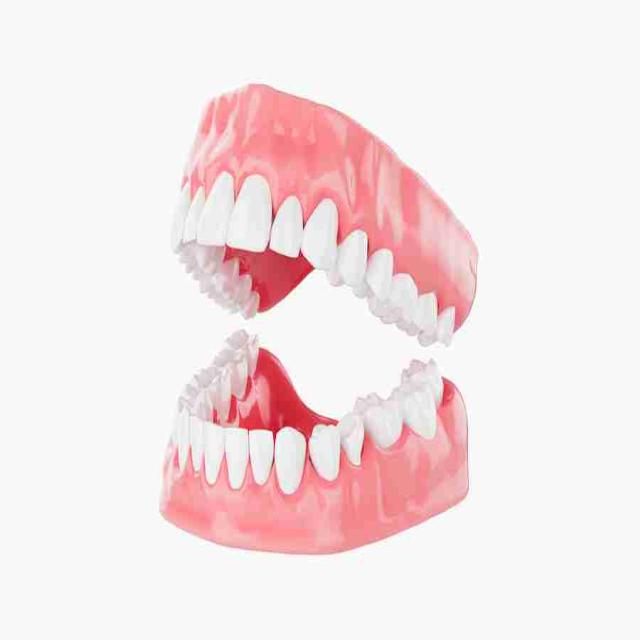tooth: (233, 168, 277, 259), (308, 200, 337, 278), (205, 168, 233, 248), (405, 346, 440, 408), (273, 432, 307, 486), (219, 424, 248, 481), (355, 388, 390, 435), (392, 398, 432, 436), (249, 424, 273, 486), (338, 416, 365, 471), (277, 206, 305, 259), (306, 432, 338, 471), (380, 296, 418, 326), (337, 244, 368, 278), (187, 414, 205, 471), (368, 244, 380, 326), (205, 414, 219, 481), (418, 296, 437, 344), (187, 196, 204, 249), (218, 342, 242, 374), (175, 412, 188, 471), (169, 196, 187, 236), (198, 360, 219, 386), (181, 385, 198, 408), (442, 296, 447, 338)
